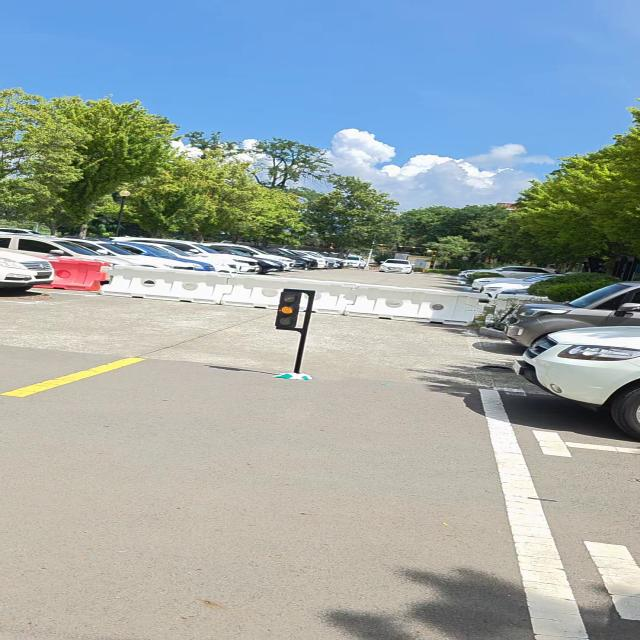yellow: (271, 291, 301, 330)
